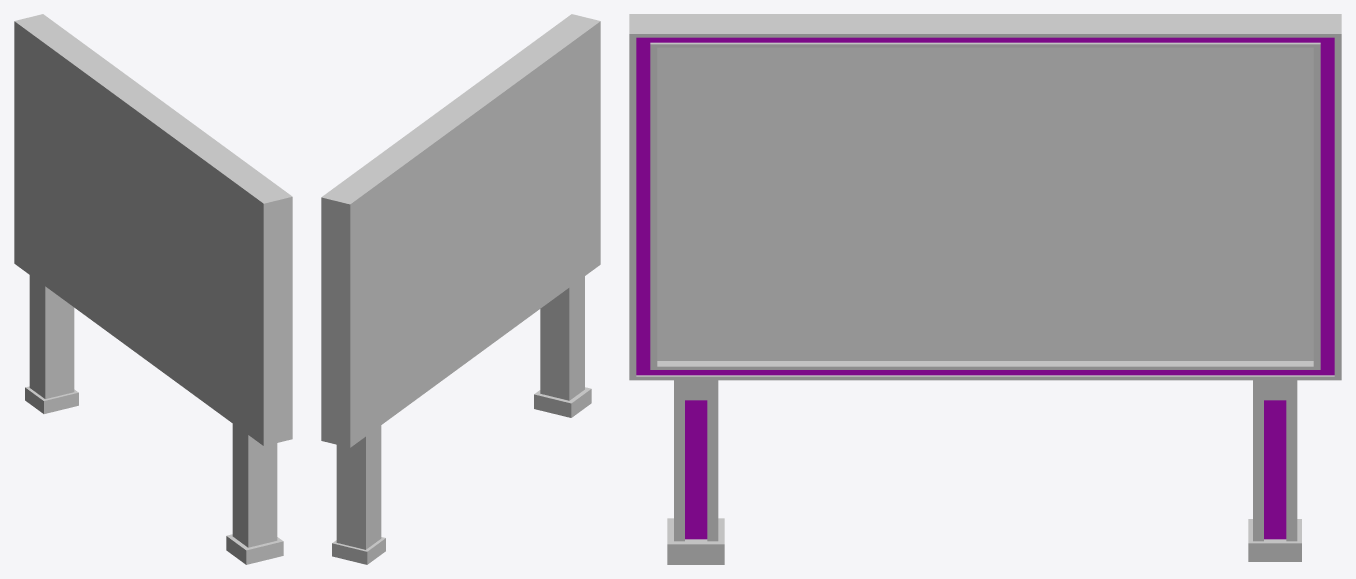
Rendered from billboard.fbx.
The picture shows the model from 3 angles, left to right: view 1: azimuth 30°, elevation 25°; view 2: azimuth 150°, elevation 25°; view 3: azimuth 270°, elevation 25°; orthographic projection. The views are drawn at different scales.
Parts seen in each view (by area): view 1: Cube; view 2: Cube; view 3: Cube.
Boxes of the visible parts, x1=… form: Cube: x1=14, y1=14, x2=292, y2=564; Cube: x1=321, y1=14, x2=600, y2=564; Cube: x1=629, y1=14, x2=1341, y2=564.
Bounding box in the file's own units: 53.95 × 511 × 625.
3 materials, 1 textured.
